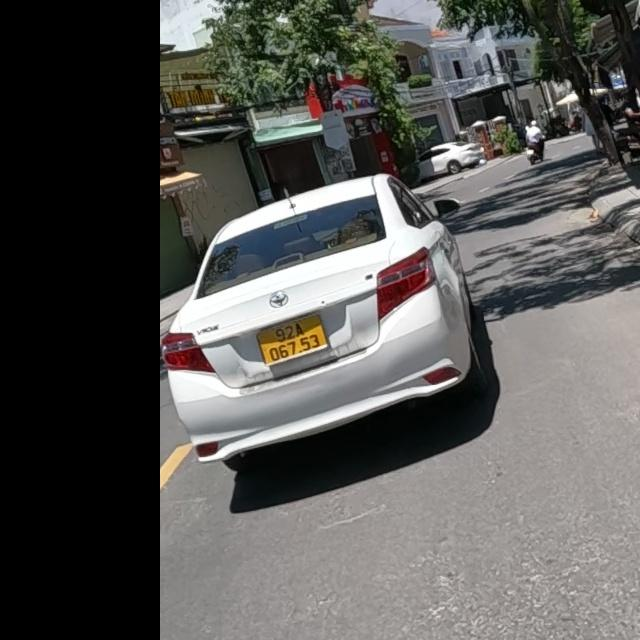license-plate: (258, 315, 326, 365)
